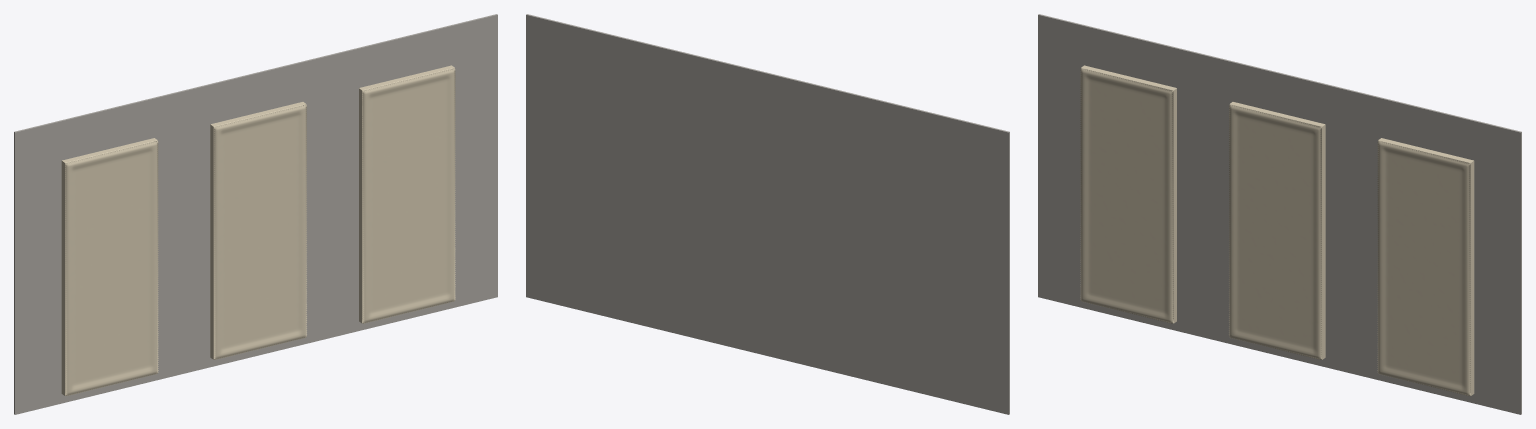
The model's file is terilgan.glb.
The picture shows the model from 3 angles, left to right: view 1: azimuth 30°, elevation 25°; view 2: azimuth 150°, elevation 25°; view 3: azimuth 330°, elevation 25°; orthographic projection.
Parts seen in each view (by area): view 1: Devor, t0, t1, t2; view 2: Devor; view 3: Devor, t2, t1, t0.
Boxes of the visible parts, x1,y1,x2,y2 form: Devor: (14, 14, 497, 414); t0: (61, 138, 158, 396); t1: (210, 102, 306, 359); t2: (359, 65, 455, 323); Devor: (526, 14, 1009, 414); Devor: (1038, 14, 1521, 414); t2: (1377, 138, 1474, 396); t1: (1229, 102, 1325, 359); t0: (1080, 65, 1176, 323).
Size of the model in its own units: 2.6 by 1.45 by 0.0518.
